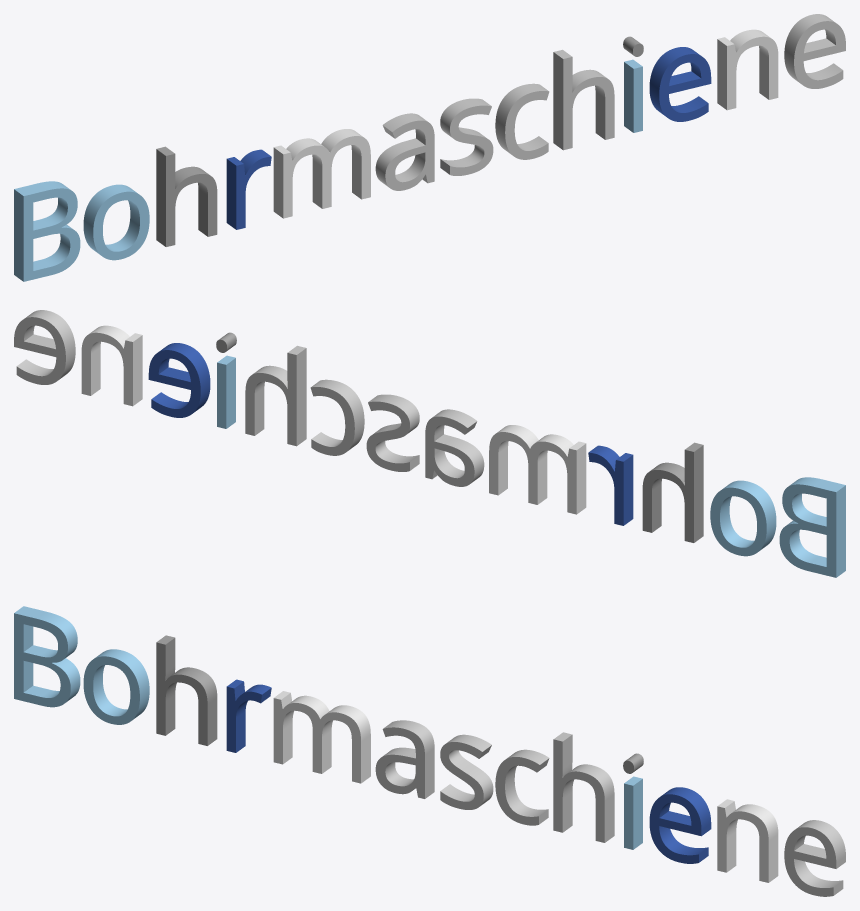
The model's file is Part Studio 2.obj.
3 renders of one model, top to bottom at view 1: azimuth 30°, elevation 25°; view 2: azimuth 150°, elevation 25°; view 3: azimuth 330°, elevation 25°, orthographic.
Visible parts, largest first — view 1: mesh7, mesh127, mesh220, mesh82, mesh246, mesh32, mesh140, mesh56, mesh276, mesh183, mesh200, mesh216 (+9 smaller); view 2: mesh8, mesh128, mesh221, mesh83, mesh247, mesh33, mesh141, mesh57, mesh277, mesh184, mesh201, mesh216 (+9 smaller); view 3: mesh7, mesh127, mesh220, mesh82, mesh32, mesh246, mesh140, mesh56, mesh276, mesh183, mesh200, mesh97 (+2 smaller).
Boxes of the visible parts, box(x1,y1,x2,y2) form: mesh7: box(23, 188, 80, 281); mesh127: box(283, 136, 370, 218); mesh220: box(563, 57, 614, 150); mesh82: box(166, 154, 217, 246); mesh246: box(659, 54, 711, 121); mesh32: box(794, 21, 845, 88); mesh140: box(385, 120, 434, 190); mesh56: box(93, 191, 149, 260); mesh276: box(727, 36, 778, 110); mesh183: box(450, 105, 493, 175); mesh200: box(505, 91, 549, 159); mesh216: box(553, 52, 563, 149); mesh8: box(779, 484, 836, 577); mesh128: box(489, 432, 576, 514); mesh221: box(245, 353, 296, 446); mesh83: box(642, 450, 693, 542); mesh247: box(148, 350, 200, 417); mesh33: box(14, 317, 65, 384); mesh141: box(425, 416, 474, 486); mesh57: box(710, 487, 766, 556); mesh277: box(81, 332, 132, 406); mesh184: box(366, 401, 409, 471); mesh201: box(310, 387, 354, 455); mesh216: box(296, 348, 306, 445); mesh7: box(14, 613, 70, 707); mesh127: box(273, 698, 360, 783); mesh220: box(553, 739, 604, 842); mesh82: box(156, 642, 207, 745); mesh32: box(784, 827, 836, 896); mesh246: box(649, 794, 701, 863); mesh140: box(375, 727, 424, 798); mesh56: box(83, 656, 139, 724); mesh276: box(717, 806, 768, 882); mesh183: box(440, 742, 483, 809); mesh200: box(495, 757, 539, 825); mesh97: box(226, 686, 261, 752).
Bounding box in the file's own units: 1.24 × 0.1334 × 0.0254.
